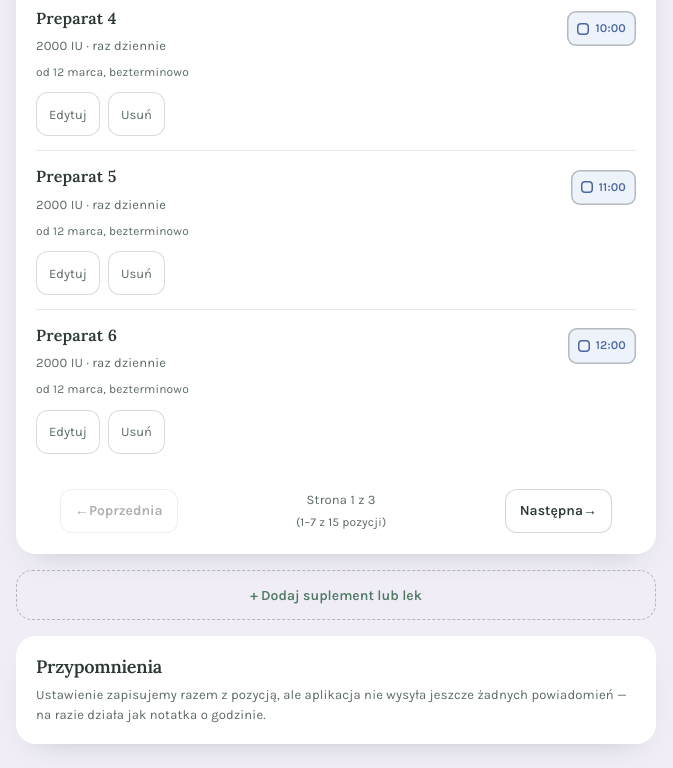
Test case: the list is paginated › falls back a page rather than emptying when the last row on it goes
(page scrolled)
What coordinates should you click on to do the following:
click the button "Następna →"
I would click on:
 (558, 511)
Its box is [505,489,612,533].
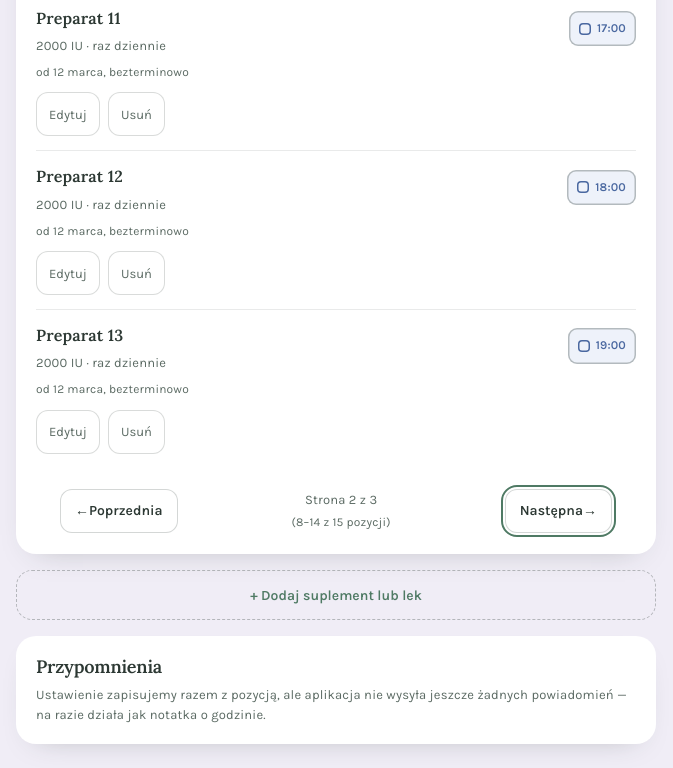
What coordinates should you click on to do the following:
click the button "Następna →"
I would click on:
 (558, 511)
Its box is [505,489,612,533].
(page scrolled)
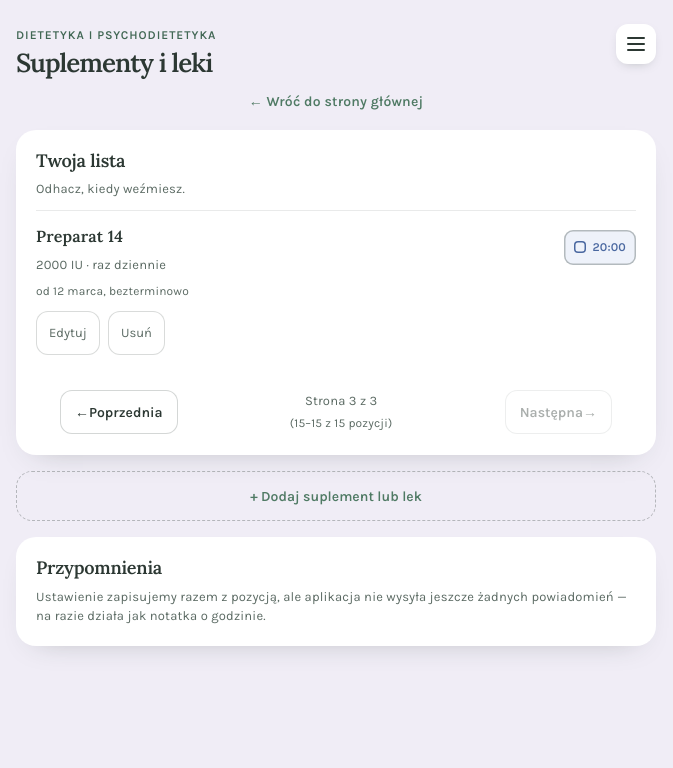
Check: the text "Strona 3 z 3 (15–15 z 15 pozycji)" is shown, box [290,389,392,435]
Note: The hidden half of the name runs into the visible half, so a regex.
What coordinates should you click on to do the following:
click the button "Usuń"
I would click on:
 (136, 333)
Its box is [108,311,165,355].
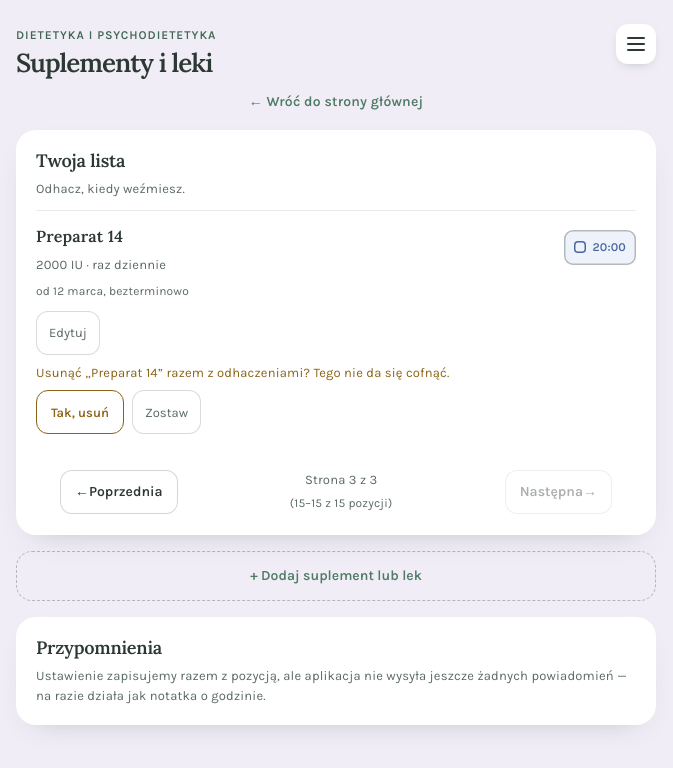
What coordinates should you click on to do the following:
click the button "Tak, usuń"
I would click on:
 (80, 412)
Its box is [36,390,124,434].
(page scrolled)
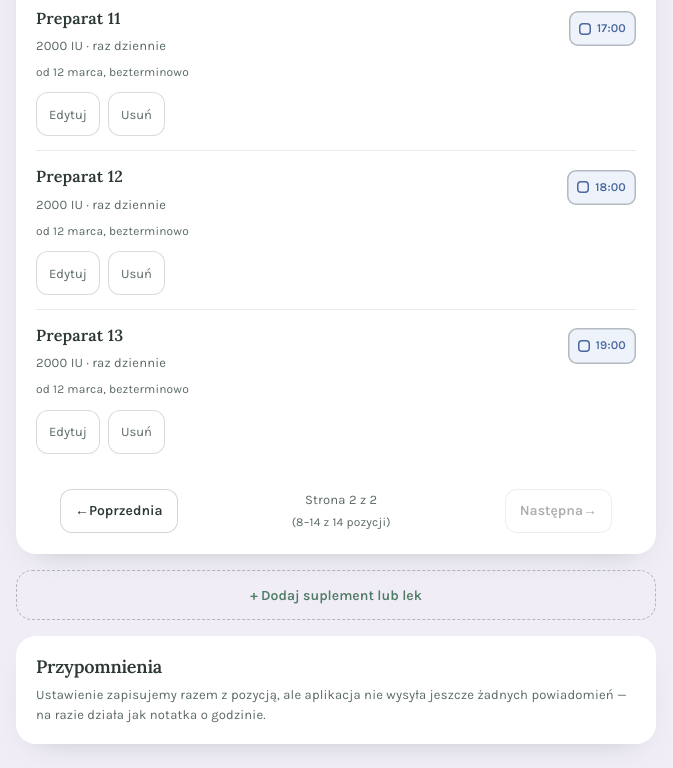
Check: the text "Strona 2 z 2 (8–14 z 14 pozycji)" is shown, box [292,488,391,534]
